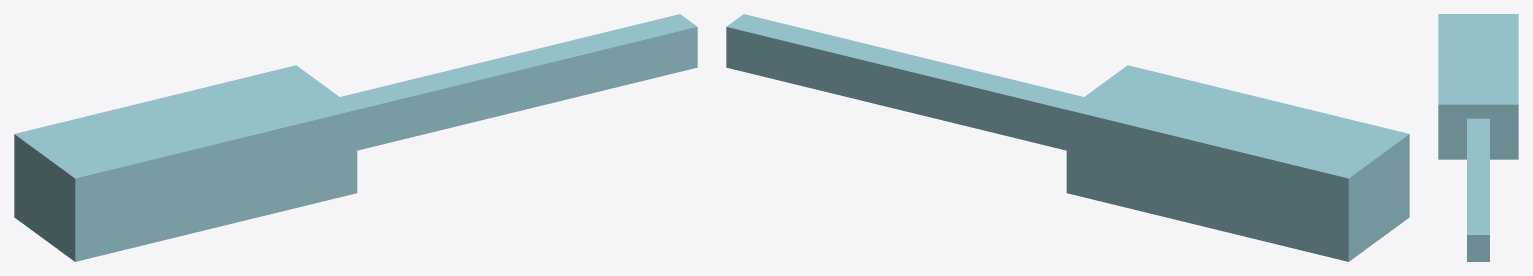
File: cuboid_screwdriver_v2004.obj
The picture shows the model from 3 angles, left to right: view 1: azimuth 30°, elevation 25°; view 2: azimuth 150°, elevation 25°; view 3: azimuth 270°, elevation 25°; orthographic projection. The views are drawn at different scales.
Size of the model in its own units: 0.2263 by 0.028 by 0.0371.
1 material, 1 textured.
